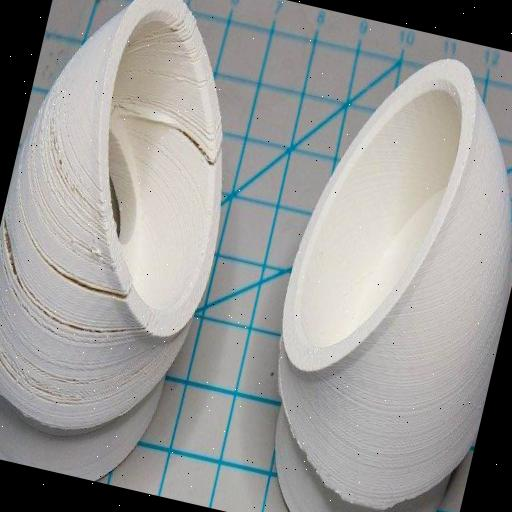cracks: (6, 58, 145, 245), (0, 224, 166, 356), (0, 324, 142, 420), (130, 92, 238, 177), (158, 0, 206, 55)
